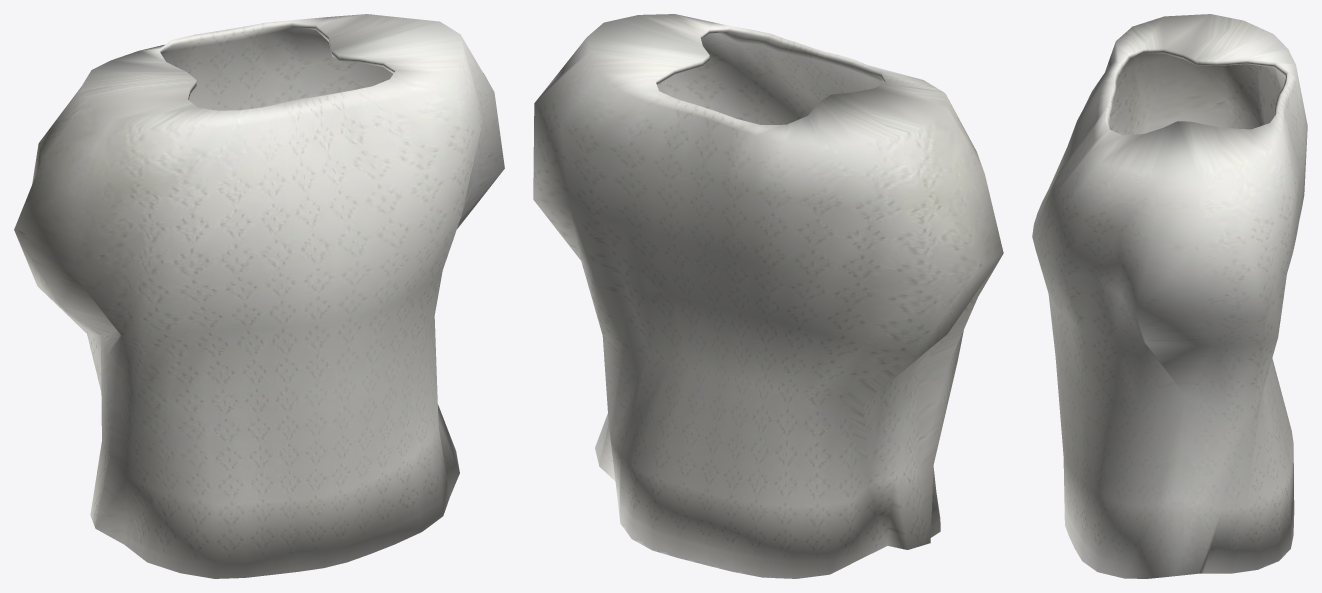
3 renders of one model, left to right at view 1: azimuth 30°, elevation 25°; view 2: azimuth 150°, elevation 25°; view 3: azimuth 270°, elevation 25°, orthographic. The views are drawn at different scales.
Parts seen in each view (by area): view 1: garment; view 2: garment; view 3: garment.
Part boxes in pixels (left/top/right/bottom): garment: left=14, top=14, right=504, bottom=578; garment: left=533, top=14, right=1003, bottom=578; garment: left=1032, top=14, right=1307, bottom=578.
Size of the model in its own units: 0.5712 by 0.5492 by 0.3197.
1 material, 1 textured.
